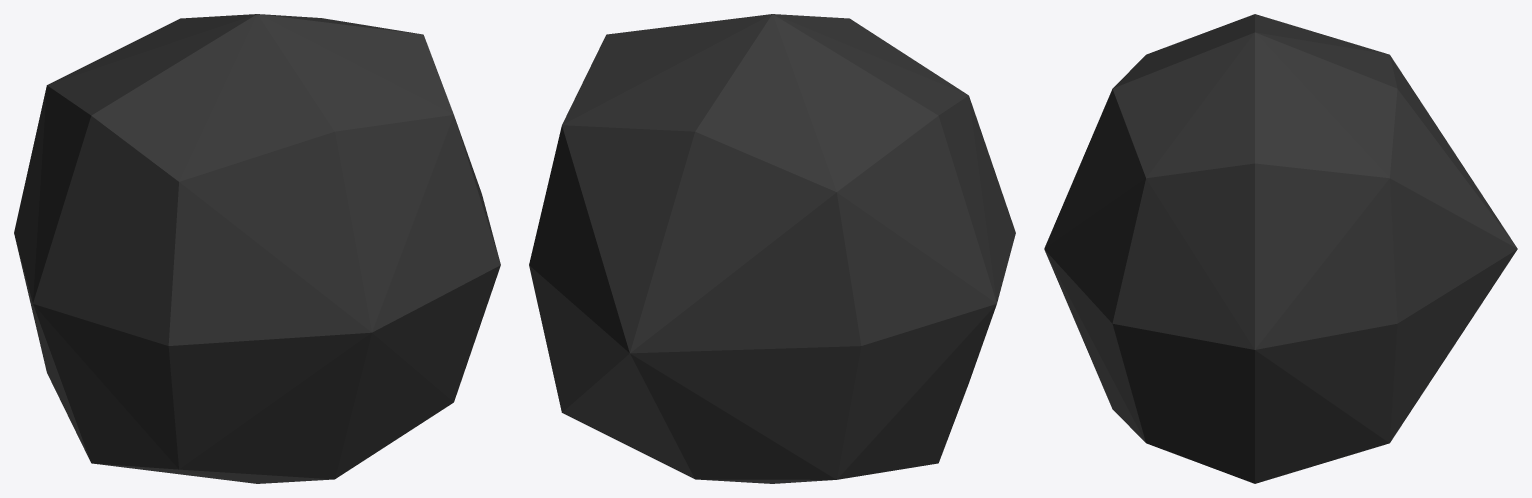
Rendered from thorax.gltf.
3 renders of one model, left to right at view 1: azimuth 30°, elevation 25°; view 2: azimuth 150°, elevation 25°; view 3: azimuth 270°, elevation 25°, orthographic. The views are drawn at different scales.
Visible parts, largest first — view 1: thorax; view 2: thorax; view 3: thorax.
Part boxes in pixels (left/top/right/bottom): thorax: left=14, top=14, right=500, bottom=483; thorax: left=529, top=14, right=1015, bottom=483; thorax: left=1044, top=14, right=1517, bottom=483.
Bounding box in the file's own units: 1.84 × 1.84 × 1.82.
